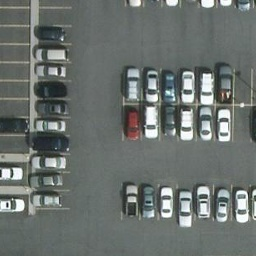car: (32, 137, 73, 153), (31, 154, 72, 170), (197, 66, 214, 103), (217, 67, 234, 104), (31, 173, 68, 189), (27, 192, 64, 208), (126, 66, 142, 103), (124, 107, 140, 144), (124, 181, 140, 218), (140, 181, 156, 218), (158, 182, 174, 219), (178, 190, 194, 227), (196, 184, 212, 221), (214, 186, 230, 223), (234, 187, 250, 224), (217, 107, 233, 144), (198, 106, 214, 143), (179, 105, 195, 142), (162, 106, 178, 143), (144, 106, 160, 143), (144, 65, 160, 102), (162, 66, 178, 103), (180, 66, 196, 103), (1, 196, 28, 215), (36, 46, 68, 61), (34, 63, 66, 78), (34, 83, 66, 98), (38, 102, 70, 117), (31, 115, 63, 130), (38, 27, 67, 40), (1, 164, 22, 181)
